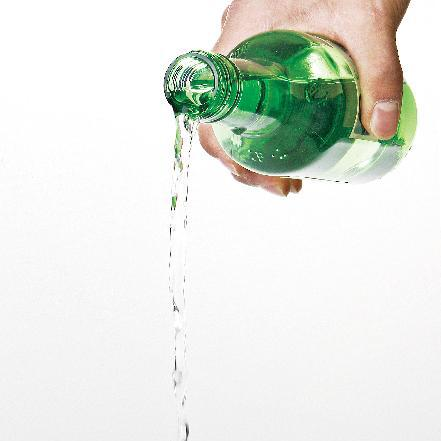soju: (156, 25, 419, 200)
